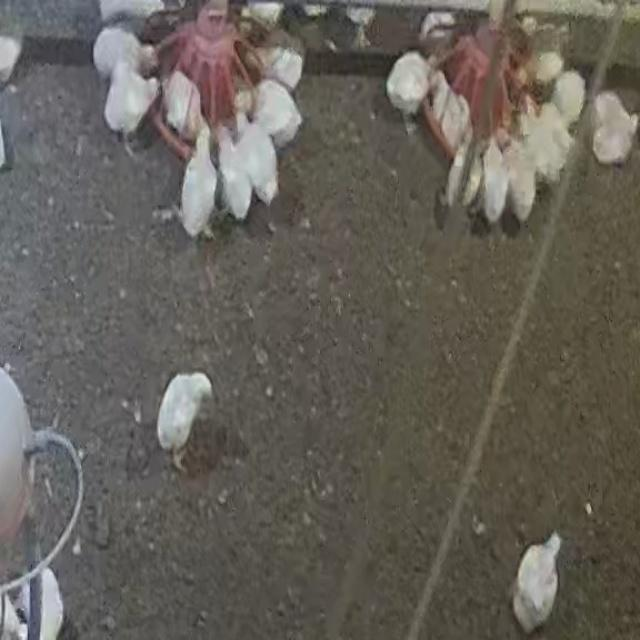chicken: (155, 372, 219, 458), (509, 536, 562, 635), (517, 105, 573, 187), (234, 81, 301, 146), (236, 112, 278, 204), (181, 133, 214, 240), (591, 92, 640, 164), (104, 60, 150, 134), (217, 126, 251, 222), (443, 127, 481, 211), (91, 26, 146, 80), (164, 73, 210, 136), (387, 53, 428, 114), (508, 147, 538, 223), (515, 48, 567, 86), (434, 70, 462, 140), (263, 46, 305, 92), (551, 69, 586, 122), (484, 141, 506, 225), (98, 1, 161, 27), (0, 34, 23, 85), (243, 1, 285, 28), (421, 11, 457, 38)
